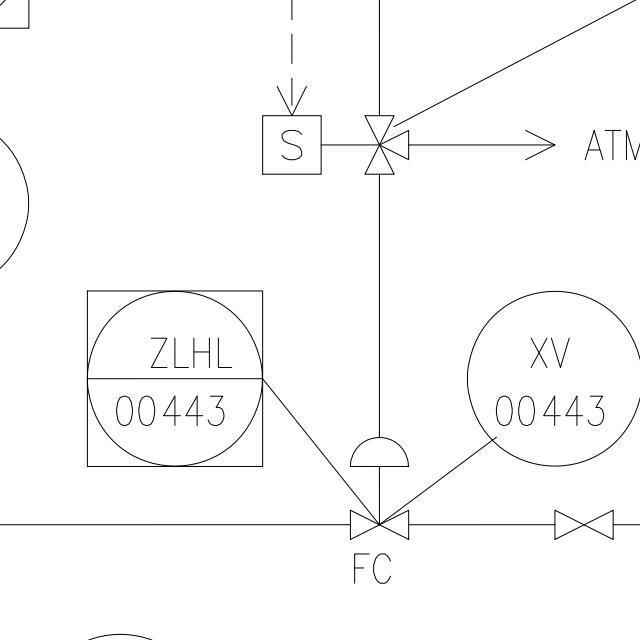3W: (361, 108, 419, 187)
FC: (341, 421, 422, 547)
GV: (546, 505, 617, 543)
SV: (251, 106, 399, 182)
